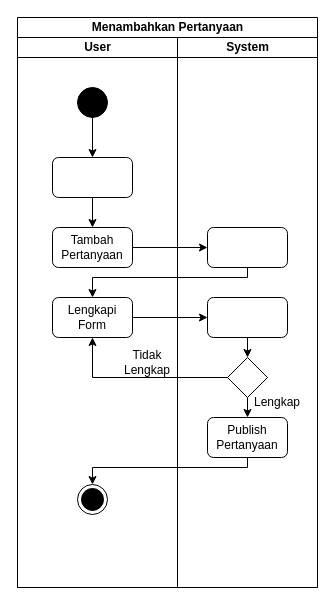
Image size: 335x605. Some labels were removed from this diagram. Each missing label, with the centre of its shape:
Cek Kelengkapan Form: (247,317)
Login: (92,177)
Tampilkan Form: (247,247)
